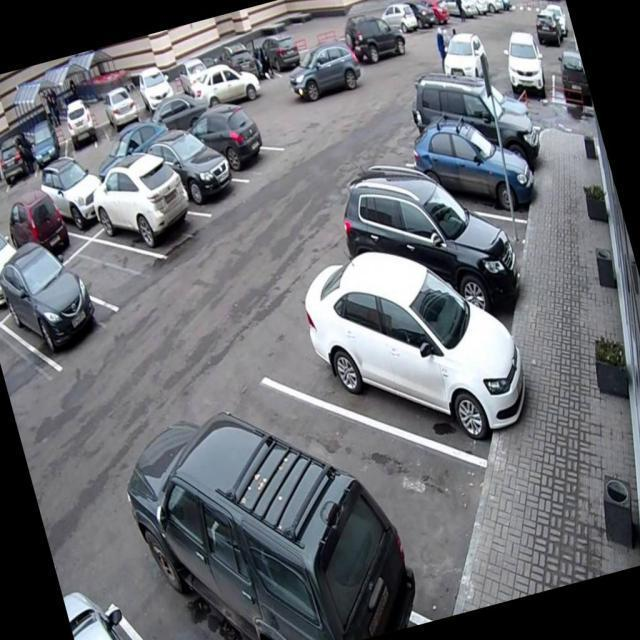car: (287, 266, 524, 482), (108, 484, 408, 640), (334, 198, 528, 381), (398, 109, 536, 234), (405, 88, 544, 194), (0, 250, 107, 370), (95, 166, 200, 275), (148, 128, 244, 232), (184, 95, 270, 198), (33, 148, 116, 236), (4, 183, 78, 264), (495, 28, 555, 114), (92, 86, 148, 154), (546, 51, 596, 122), (131, 61, 186, 125), (528, 13, 583, 74), (0, 214, 30, 324), (59, 104, 110, 166), (24, 126, 76, 182), (0, 136, 45, 198)
free: (228, 356, 491, 634), (377, 136, 541, 310), (68, 211, 180, 331), (0, 322, 58, 412), (0, 141, 19, 217)
